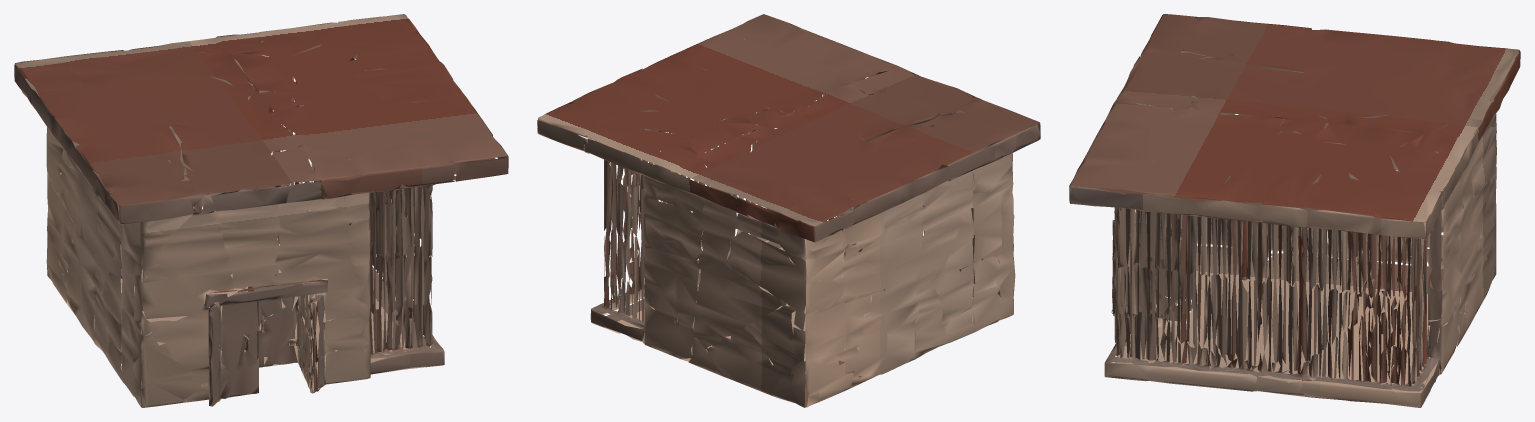
The model's file is gallery.glb.
3 views of the same model, side by side, from view 1: azimuth 30°, elevation 25°; view 2: azimuth 150°, elevation 25°; view 3: azimuth 270°, elevation 25° (orthographic). The views are drawn at different scales.
Visible parts, largest first — view 1: LO.001; view 2: LO.001; view 3: LO.001.
Boxes of the visible parts, x1,y1,x2,y2 form: LO.001: (14,14,508,407); LO.001: (537,14,1040,407); LO.001: (1069,14,1520,407).
Size of the model in its own units: 2.2 by 1.08 by 2.04.
1 material, 1 textured.
